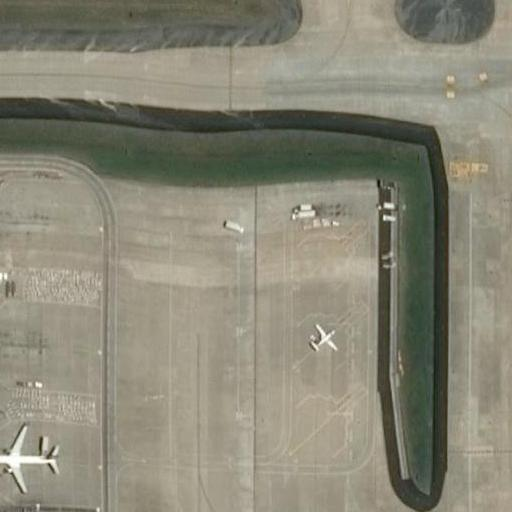Aircraft: (0, 423, 67, 498), (305, 315, 342, 362)
